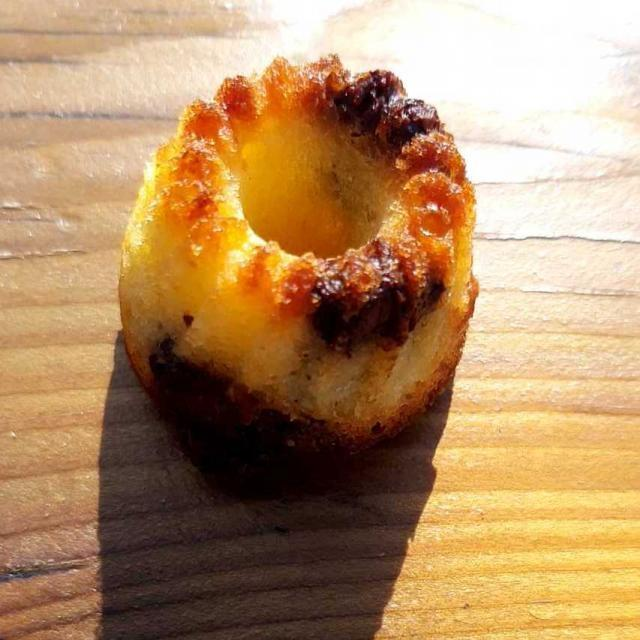tart: (118, 66, 469, 481)
